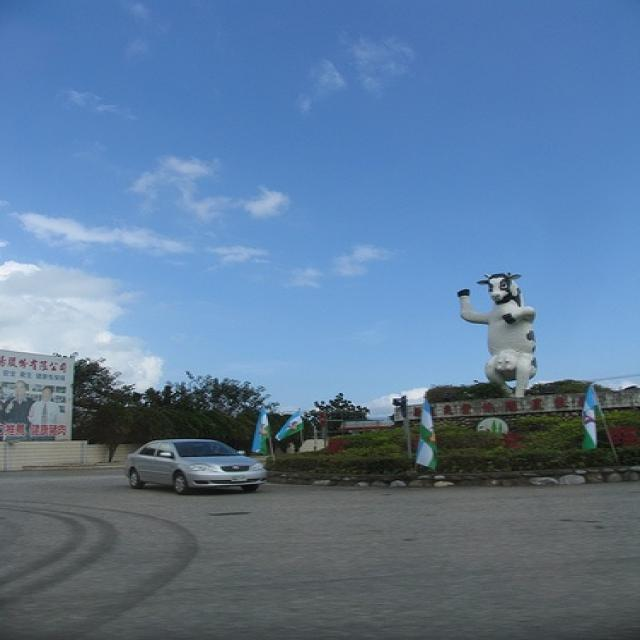car: (121, 438, 272, 497)
